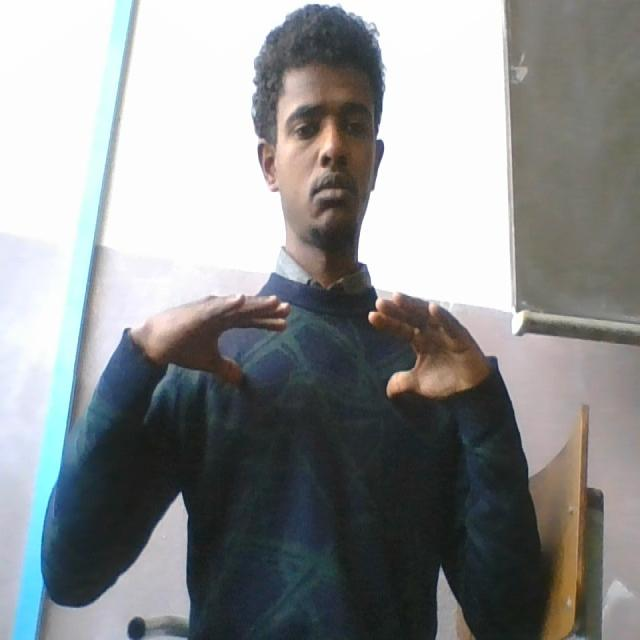meznanat: (128, 280, 498, 413)
